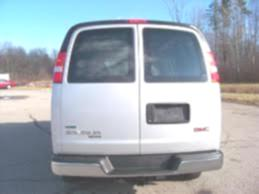GMC: (189, 125, 212, 133)
